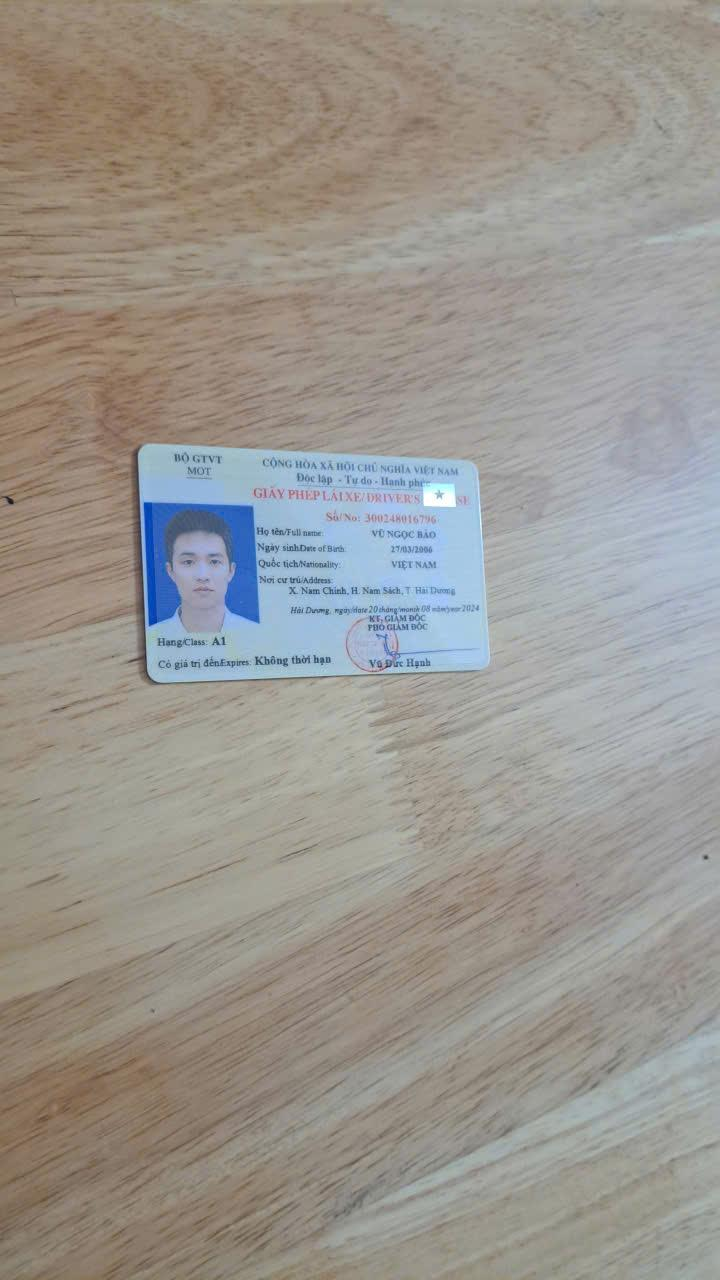gplx: (132, 435, 500, 685)
